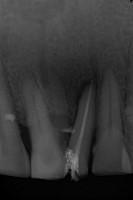Furcation Involvement: (73, 75, 98, 123)
